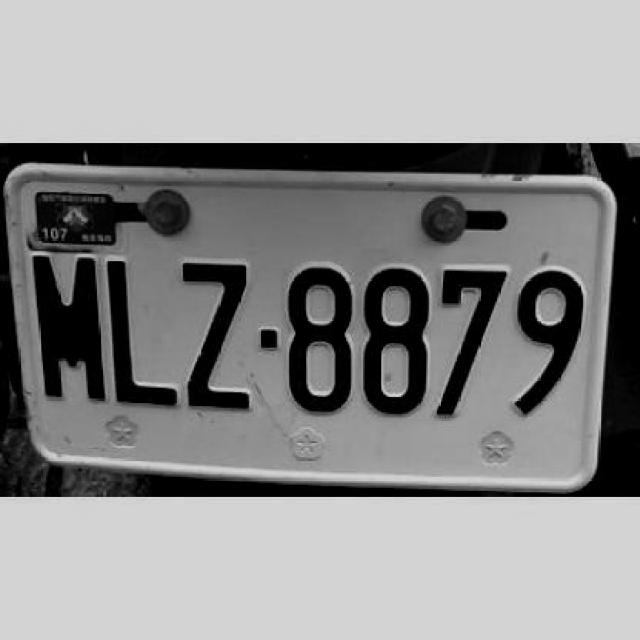-: (255, 326, 277, 351)
7: (434, 262, 508, 424)
8: (283, 260, 354, 414), (360, 262, 429, 418)
9: (508, 263, 586, 414)
L: (106, 250, 180, 406)
M: (28, 251, 107, 400)
Z: (182, 260, 252, 412)
